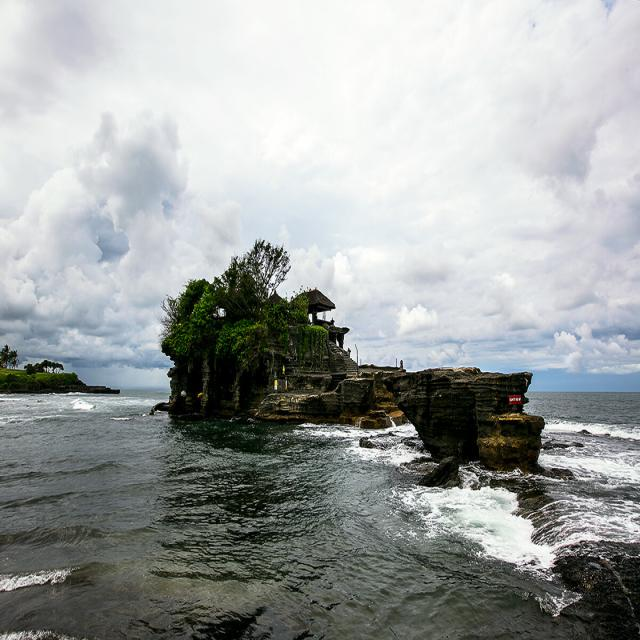reef: (427, 443, 640, 605)
